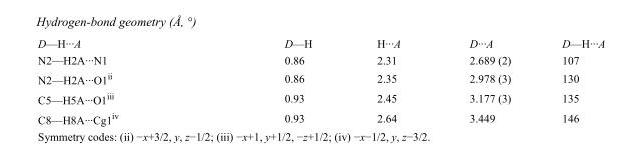table: (37, 36, 604, 125)
table column: (37, 36, 200, 125), (200, 36, 343, 125), (434, 36, 535, 125), (343, 36, 434, 125), (535, 36, 604, 125)
table row: (37, 68, 604, 88), (37, 88, 604, 107), (37, 107, 604, 125), (37, 51, 604, 68), (37, 36, 604, 51)
